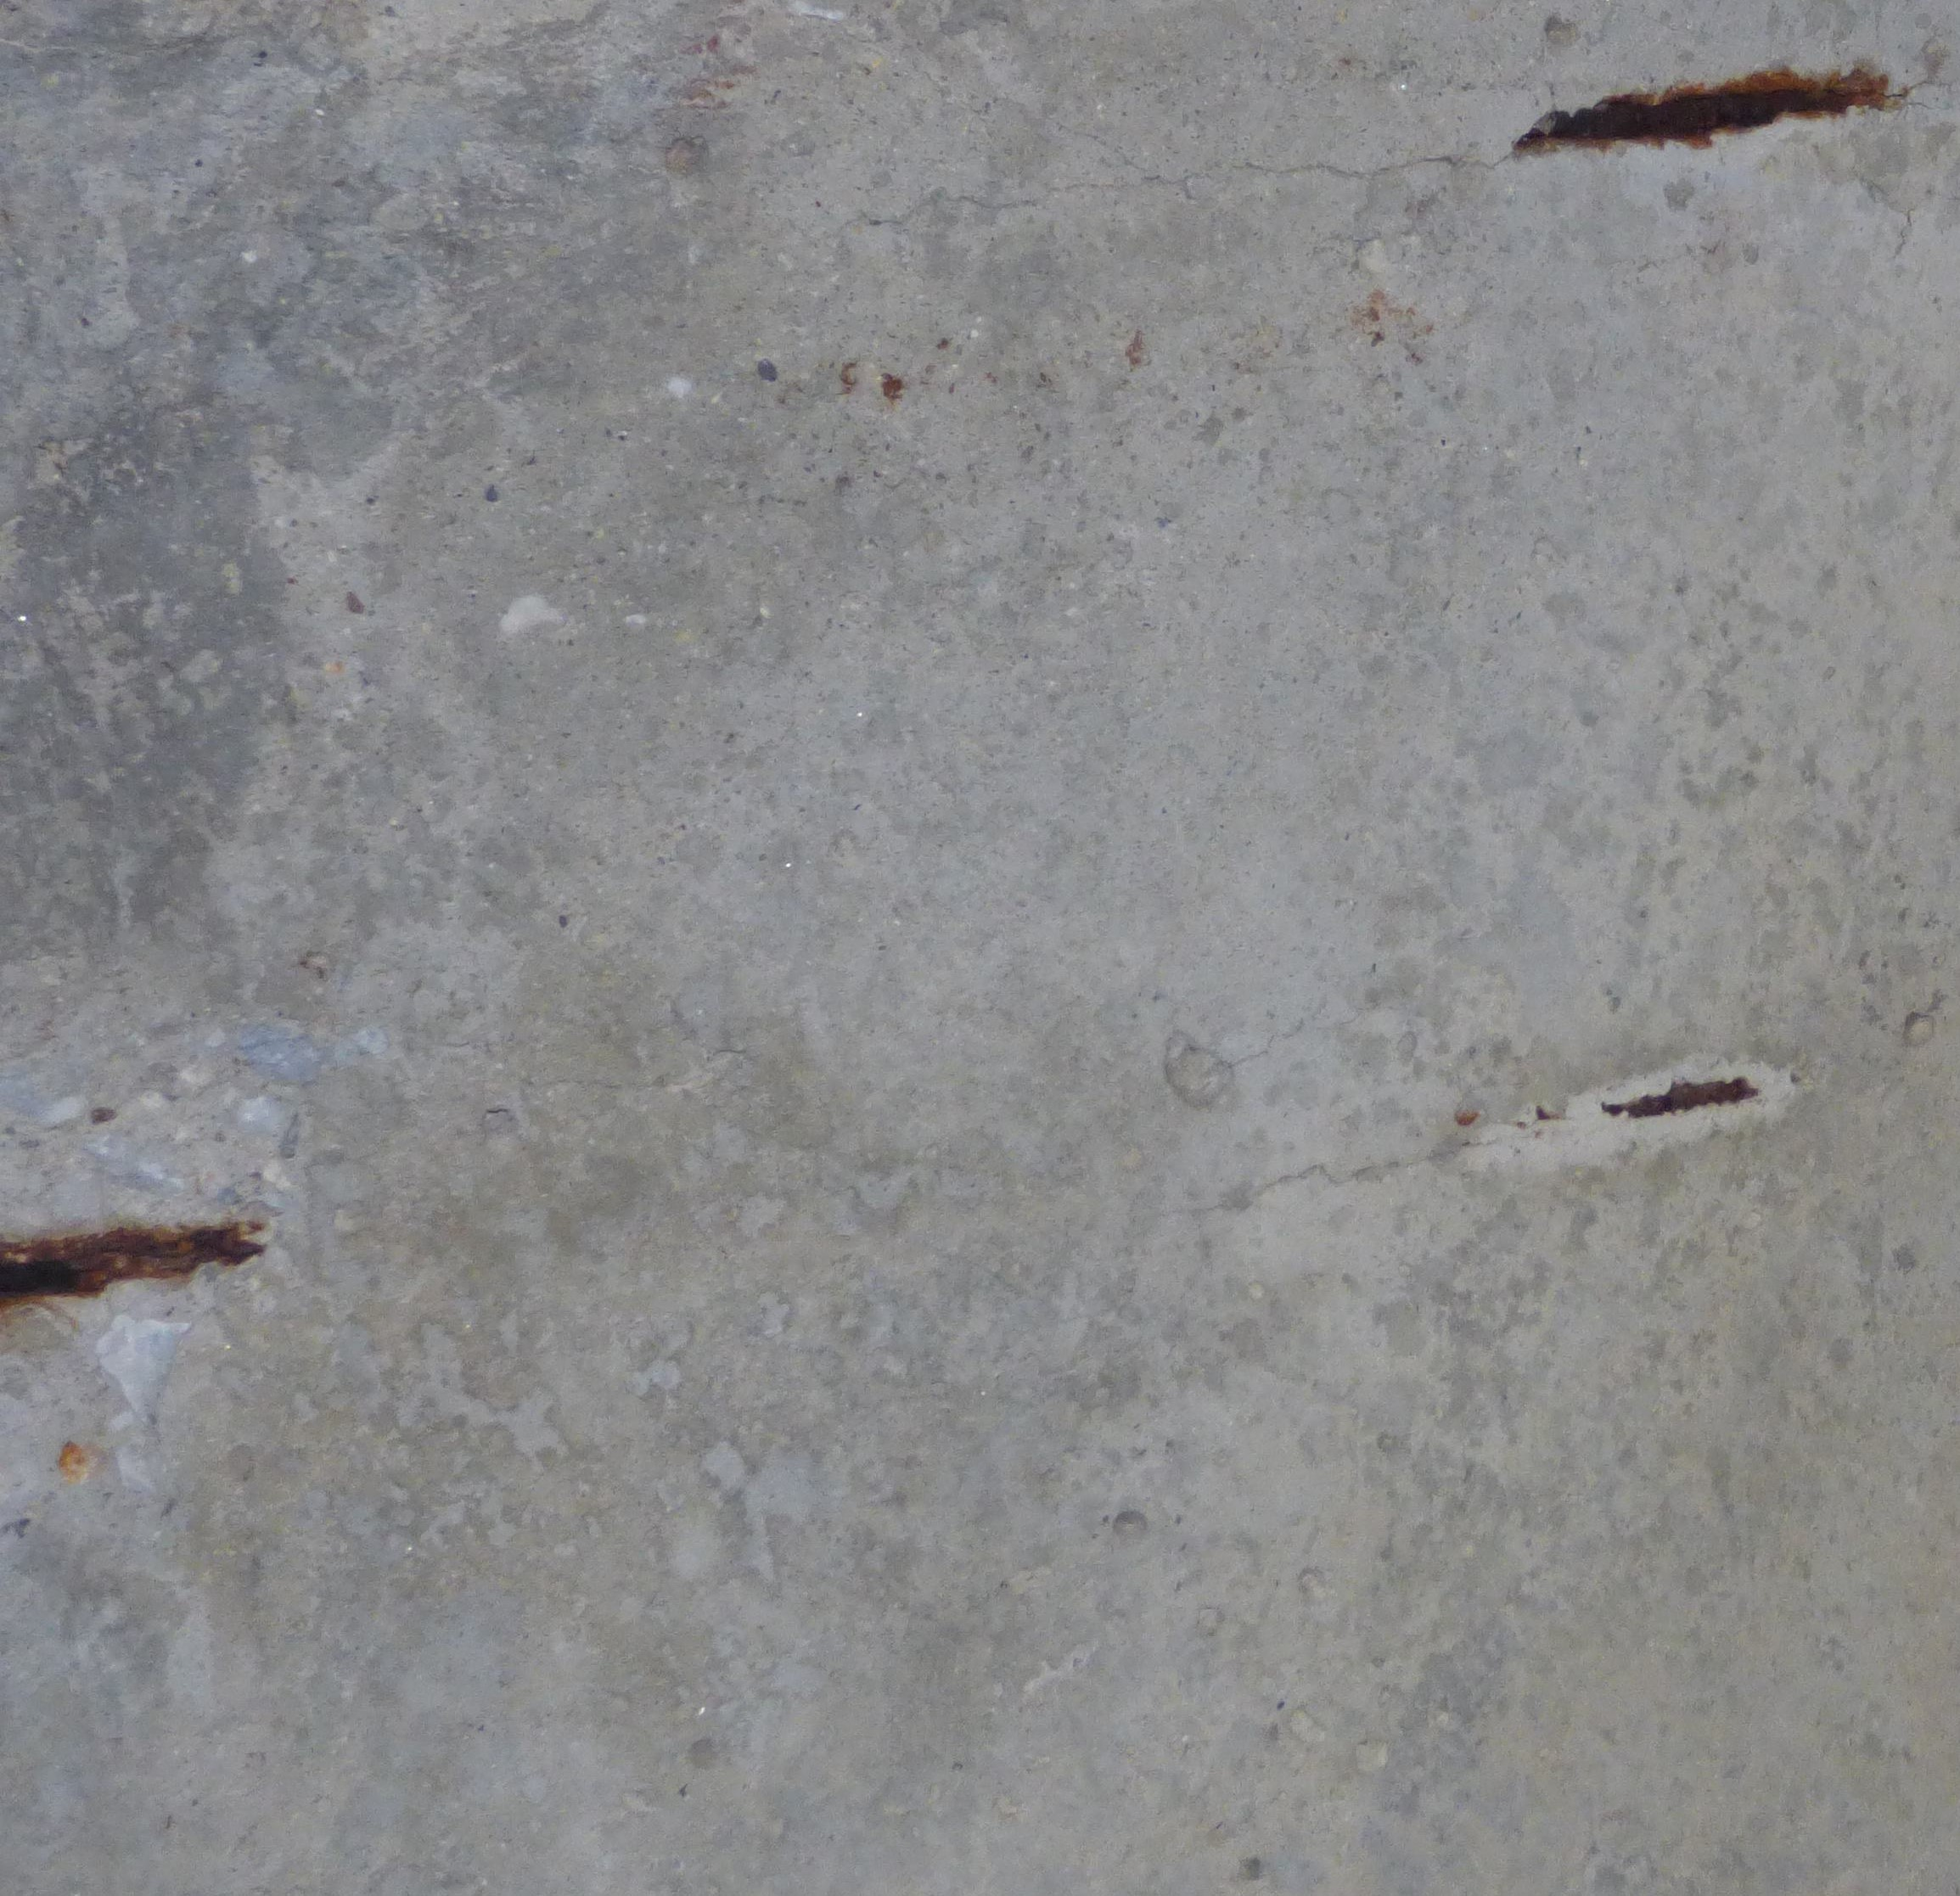Exposed reinforcement: (0, 1217, 262, 1305), (1514, 82, 1874, 143), (1598, 1079, 1761, 1121)
